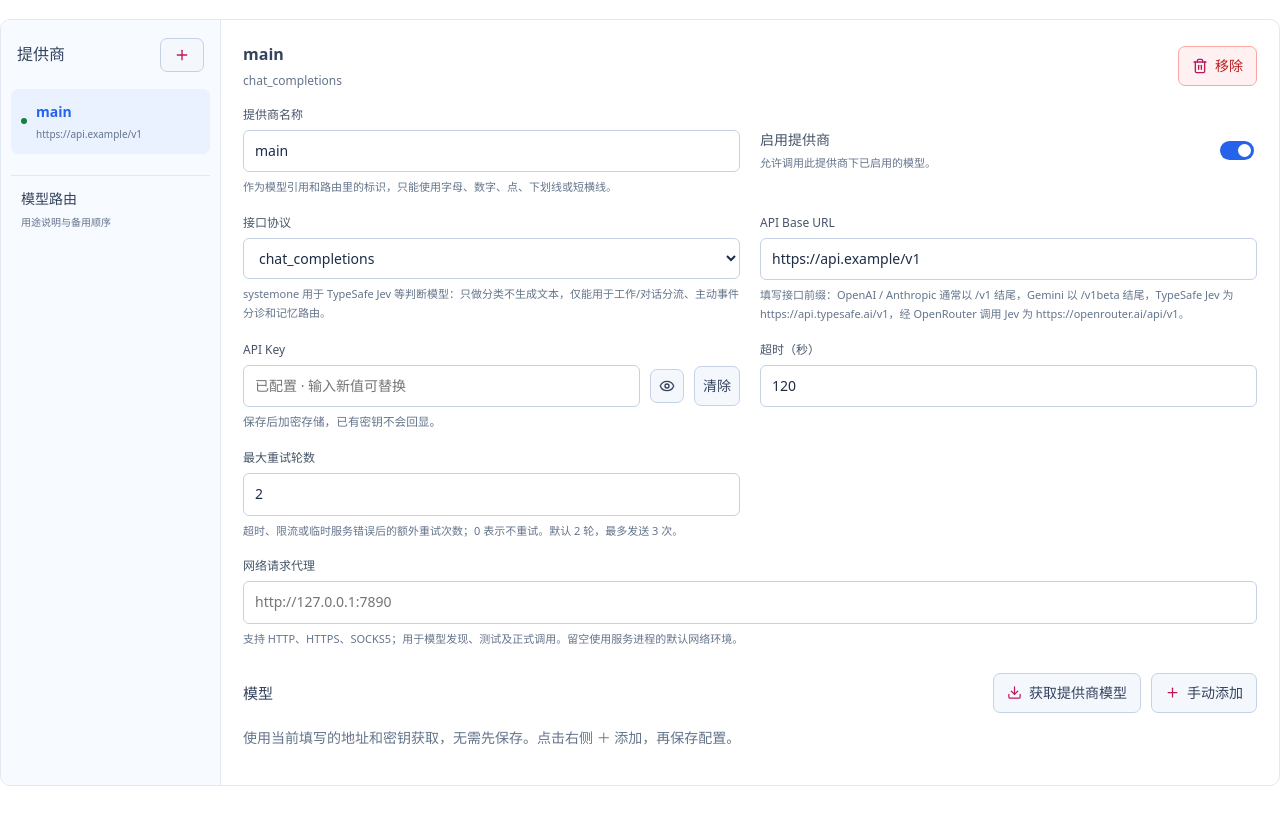
Test: models workspace › restores the test button after completion (failure=false)
Click the button "手动添加" at (1204, 693), box [1151,673,1257,713]
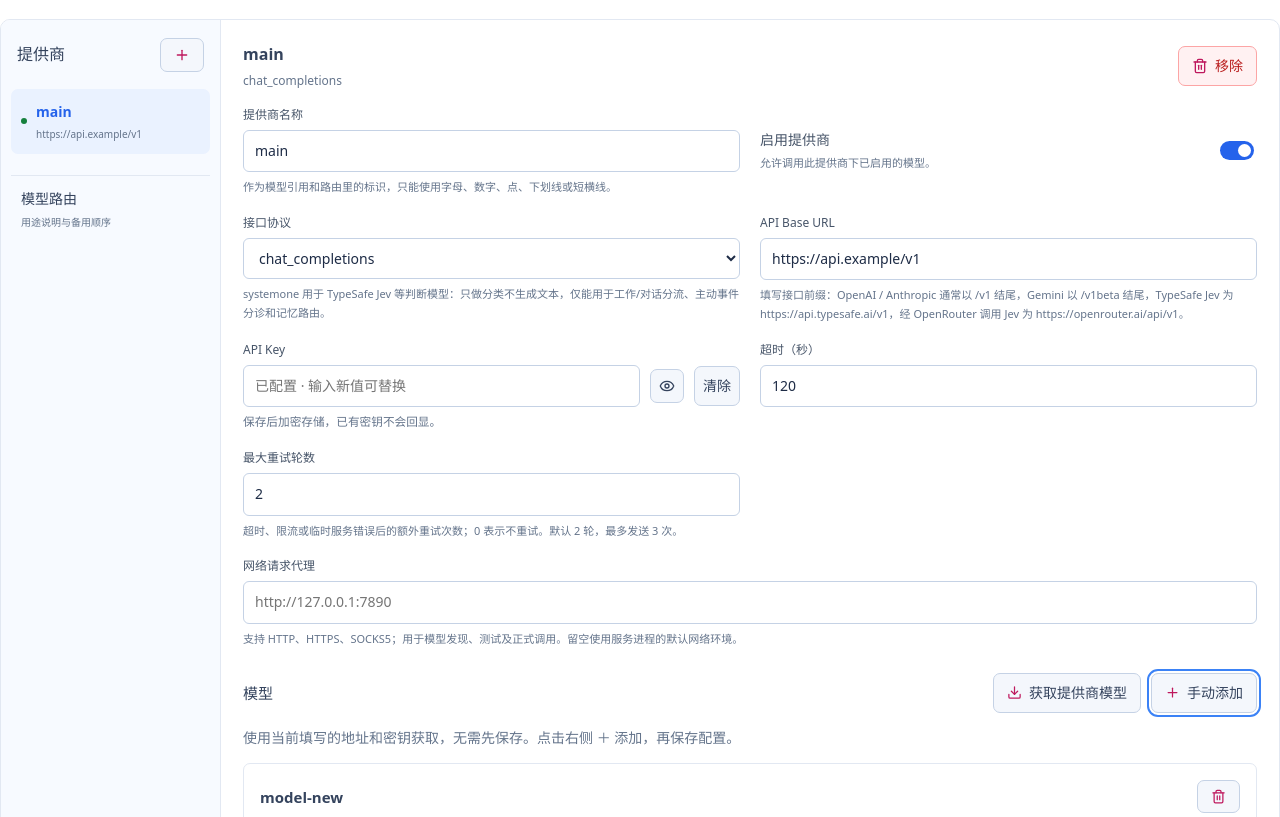
Click the button "手动添加" at (1204, 693), box [1151,673,1257,713]
(page scrolled)
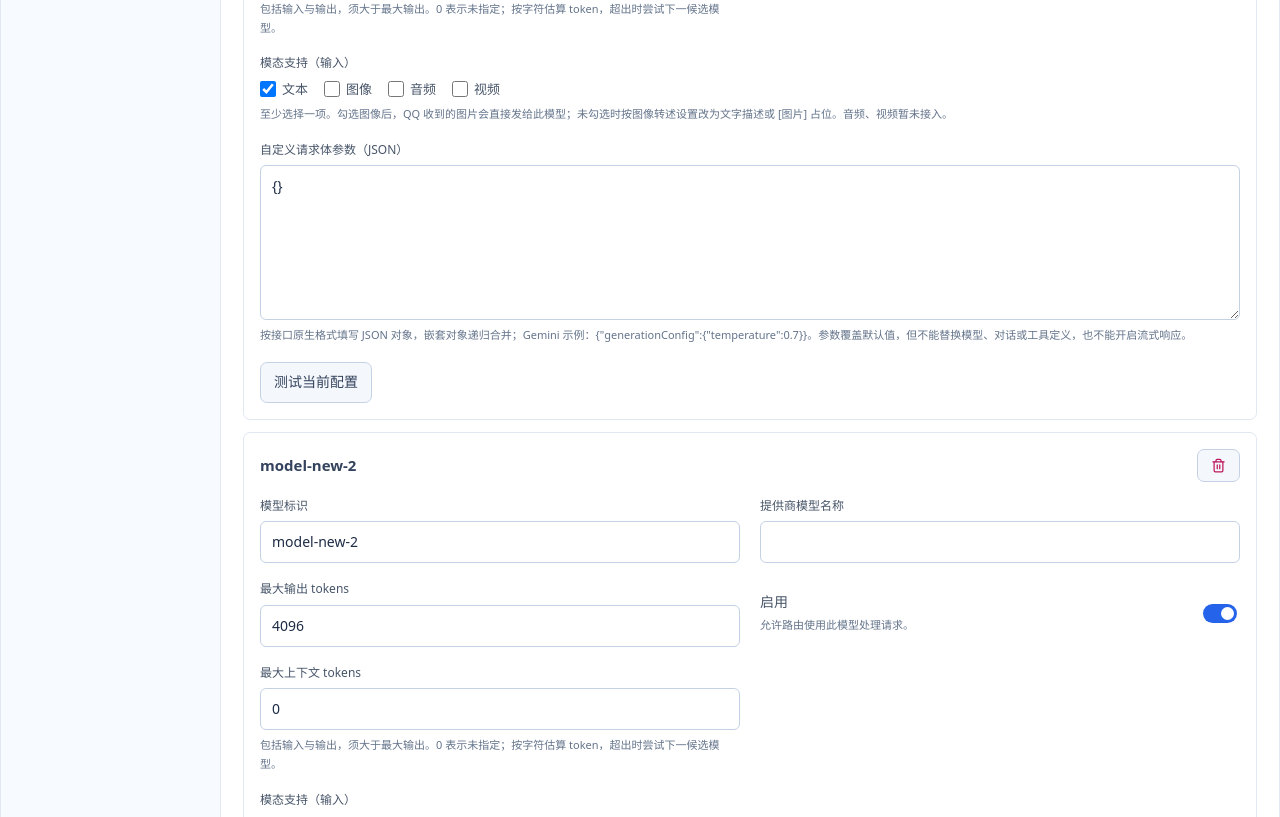
Click the button "测试当前配置" at (316, 382), box [260,362,372,403]
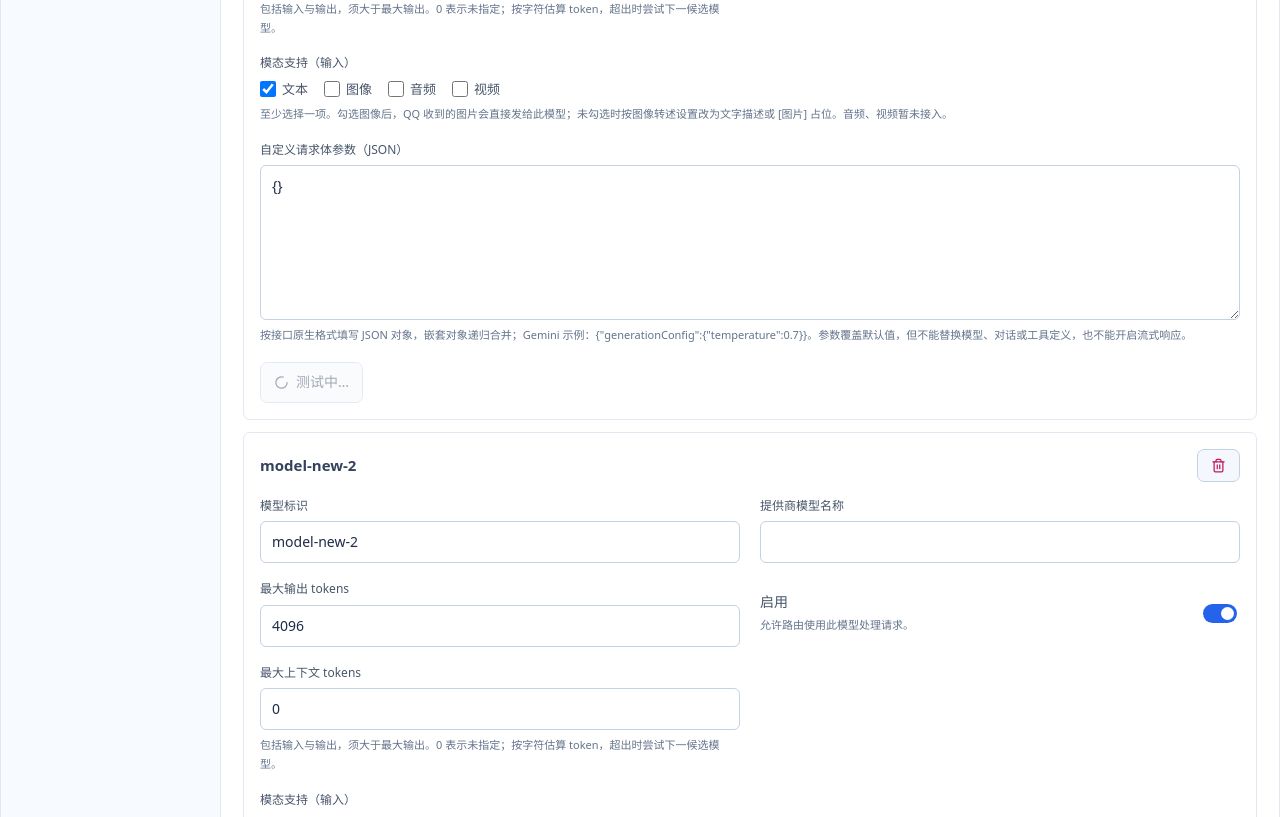
Check: the button named "测试当前配置" is disabled
Check: the icon with class "spinner" is shown, box [274,375,289,390]
Click the button named "测试当前配置" at (312, 382), box [260,362,363,403]
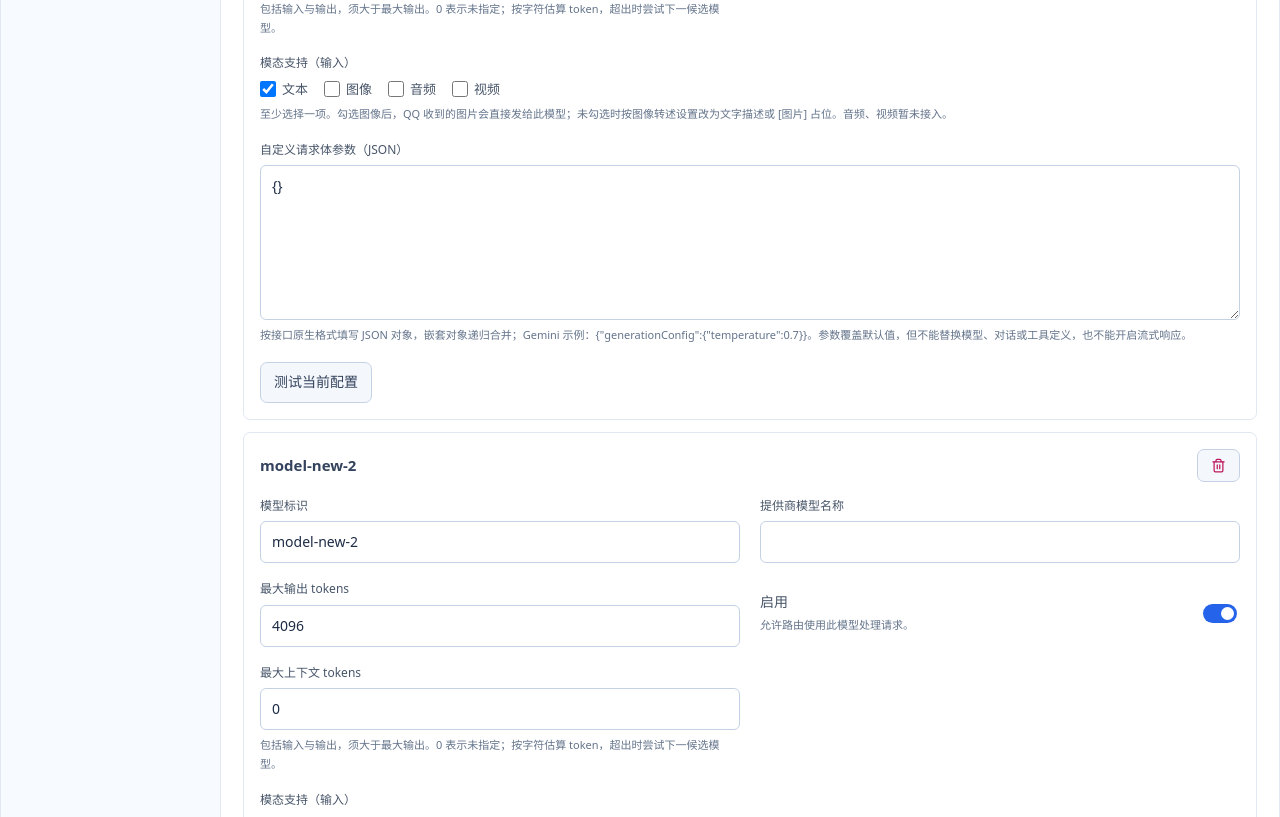
Check: the button "测试当前配置" is enabled, box [260,362,372,403]
Check: the button "测试当前配置" is shown, box [260,362,372,403]
Check: the icon with class "spinner" is gone
